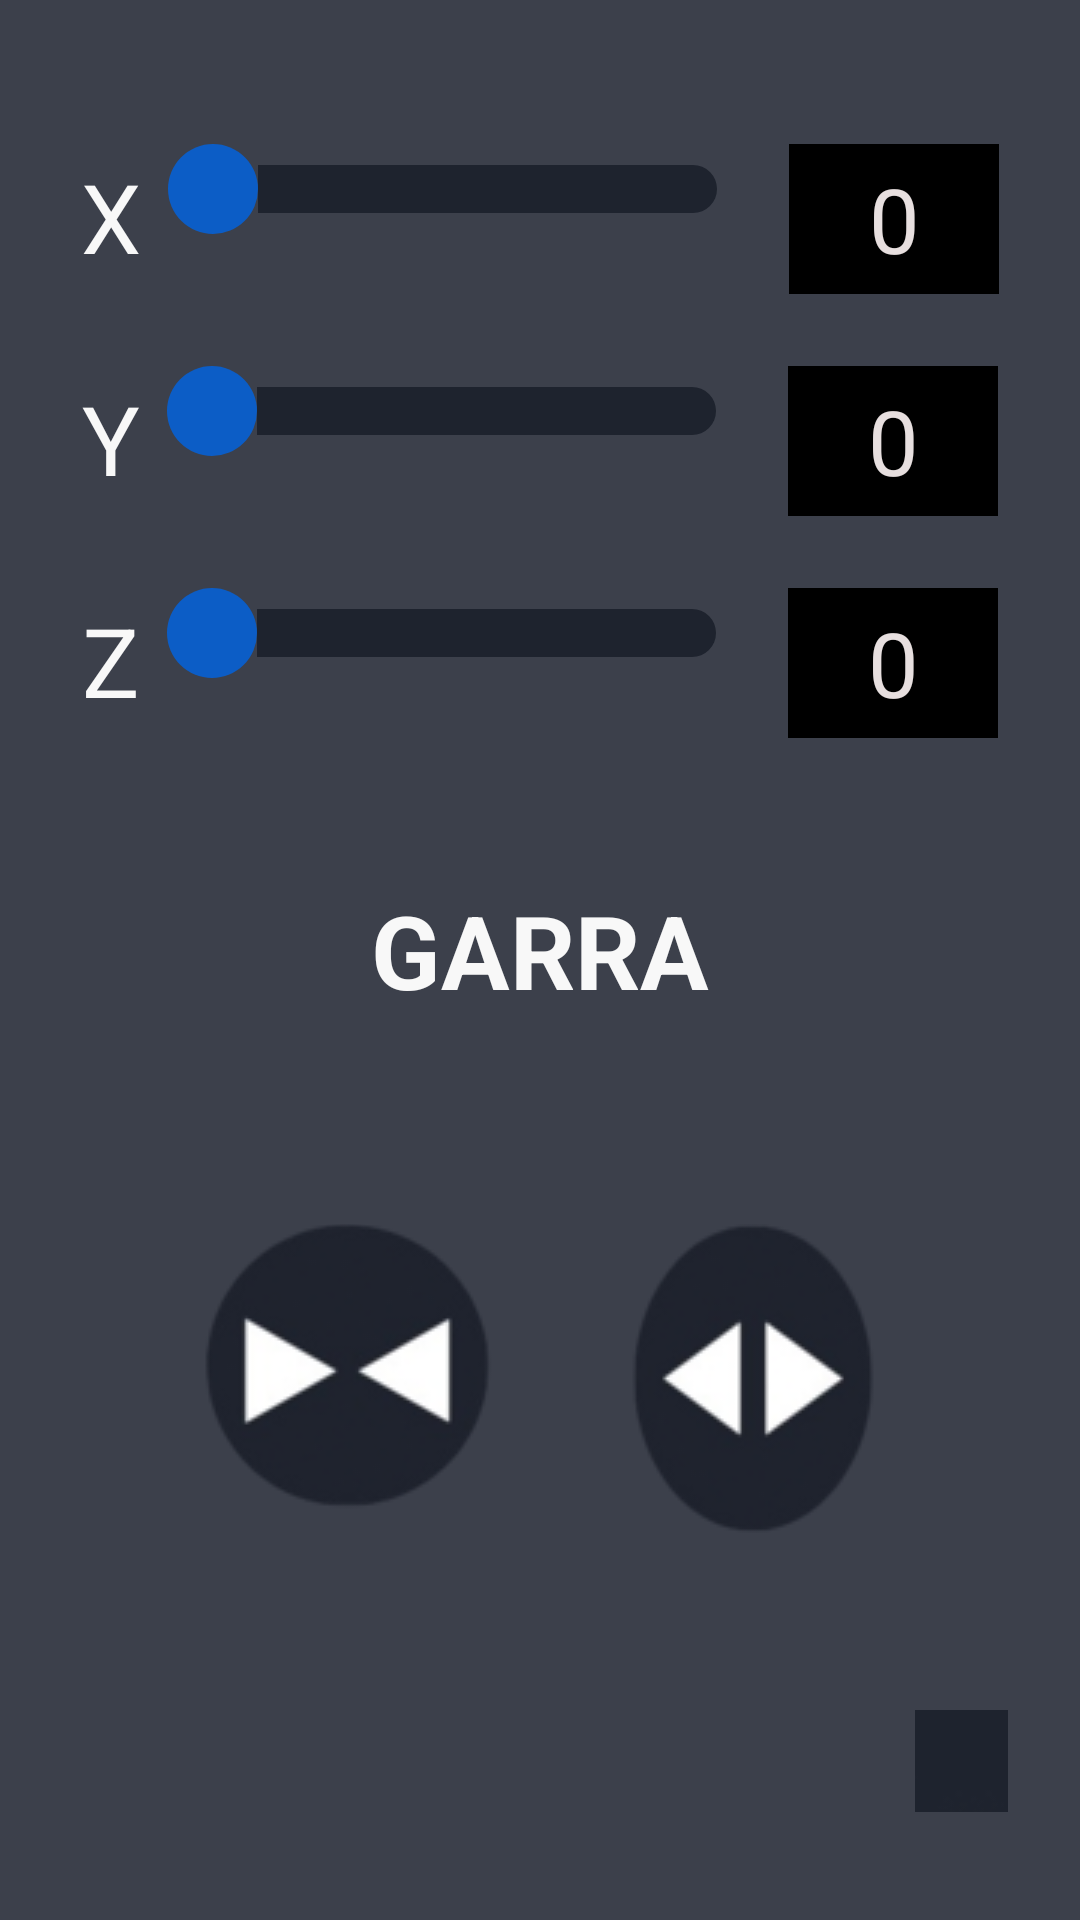

Screen size 1080*1920. Icon name, then its box in pixels as (x1, y1, x2, y2):
abre: (637, 1228, 869, 1529)
